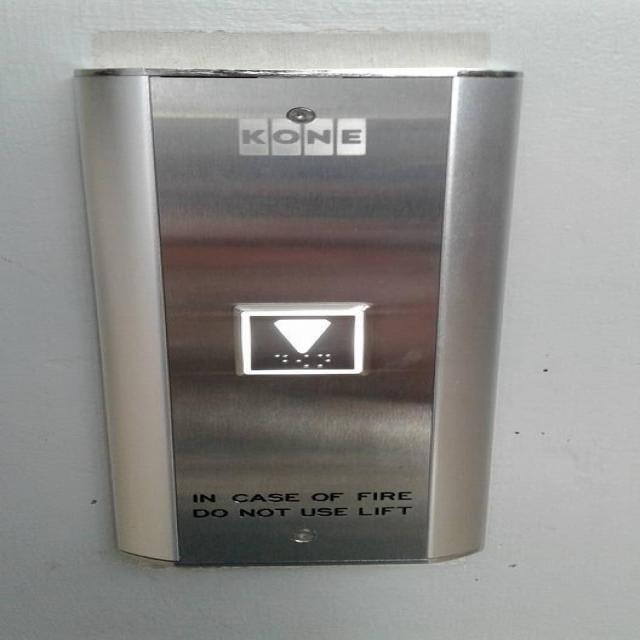down: (229, 301, 372, 378)
